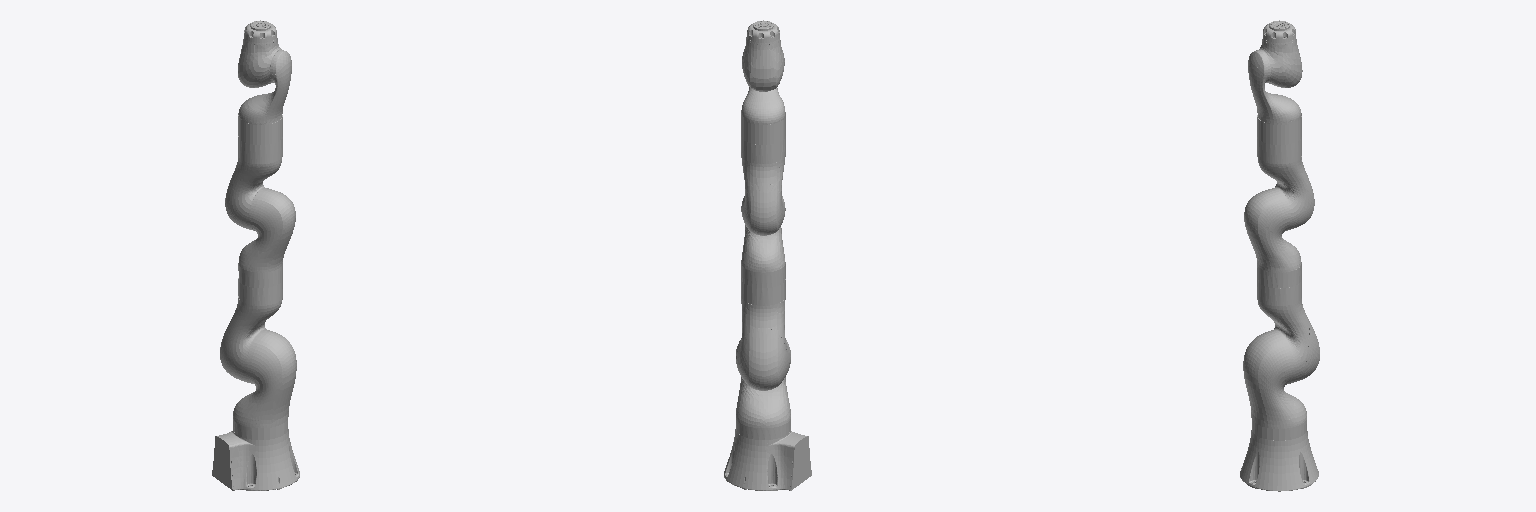
URDF robot description (orochi):
<?xml version="1.0" encoding="utf-8"?>
<!-- This URDF was automatically created by SolidWorks to URDF Exporter! Originally created by [author] ([email redacted]) 
     Commit Version: 1.4.2-27-gc3b3358  Build Version: 1.4.6891.25992
     For more information, please see http://wiki.ros.org/sw_urdf_exporter -->
<robot
  name="orochi">
  <link
    name="base_link">
    <inertial>
      <origin
        xyz="-0.012822 1.4447E-06 0.069507"
        rpy="0 0 0" />
      <mass
        value="5.4764" />
      <inertia
        ixx="0.024256"
        ixy="8.7181E-08"
        ixz="0.00067664"
        iyy="0.030835"
        iyz="-1.7098E-07"
        izz="0.03348" />
    </inertial>
    <visual>
      <origin
        xyz="0 0 0"
        rpy="0 0 0" />
      <geometry>
        <mesh
          filename="package://orochi/meshes/base_link.STL" />
      </geometry>
      <material
        name="">
        <color
          rgba="0.75294 0.75294 0.75294 1" />
      </material>
    </visual>
    <collision>
      <origin
        xyz="0 0 0"
        rpy="0 0 0" />
      <geometry>
        <mesh
          filename="package://orochi/meshes/base_link.STL" />
      </geometry>
    </collision>
  </link>
  <link
    name="Empty_Link1">
    <inertial>
      <origin
        xyz="0.013991 -0.023809 0.13621"
        rpy="0 0 0" />
      <mass
        value="5.027" />
      <inertia
        ixx="0.050907"
        ixy="0.00024736"
        ixz="-0.0043361"
        iyy="0.050634"
        iyz="0.0073776"
        izz="0.016541" />
    </inertial>
    <visual>
      <origin
        xyz="0 0 0"
        rpy="0 0 0" />
      <geometry>
        <mesh
          filename="package://orochi/meshes/Empty_Link1.STL" />
      </geometry>
      <material
        name="">
        <color
          rgba="0.75294 0.75294 0.75294 1" />
      </material>
    </visual>
    <collision>
      <origin
        xyz="0 0 0"
        rpy="0 0 0" />
      <geometry>
        <mesh
          filename="package://orochi/meshes/Empty_Link1.STL" />
      </geometry>
    </collision>
  </link>
  <joint
    name="join1"
    type="continuous">
    <origin
      xyz="0 0 0.1555"
      rpy="0 0 0" />
    <parent
      link="base_link" />
    <child
      link="Empty_Link1" />
    <axis
      xyz="0 0 -1" />
    <limit
      lower="-180"
      upper="180"
      effort="100"
      velocity="1" />
    <safety_controller
      k_velocity="0" />
  </joint>
  <link
    name="Empty_Link2">
    <inertial>
      <origin
        xyz="-0.090405 0.0001283 -0.034379"
        rpy="0 0 0" />
      <mass
        value="4.8258" />
      <inertia
        ixx="0.014308"
        ixy="-5.2212E-05"
        ixz="0.010129"
        iyy="0.054914"
        iyz="2.7585E-05"
        izz="0.053476" />
    </inertial>
    <visual>
      <origin
        xyz="0 0 0"
        rpy="0 0 0" />
      <geometry>
        <mesh
          filename="package://orochi/meshes/Empty_Link2.STL" />
      </geometry>
      <material
        name="">
        <color
          rgba="0.75294 0.75294 0.75294 1" />
      </material>
    </visual>
    <collision>
      <origin
        xyz="0 0 0"
        rpy="0 0 0" />
      <geometry>
        <mesh
          filename="package://orochi/meshes/Empty_Link2.STL" />
      </geometry>
    </collision>
  </link>
  <joint
    name="joint2"
    type="fixed">
    <origin
      xyz="0 0 0.2425"
      rpy="1.0396 1.5708 0" />
    <parent
      link="Empty_Link1" />
    <child
      link="Empty_Link2" />
    <axis
      xyz="0 0 0" />
    <limit
      lower="-180"
      upper="180"
      effort="100"
      velocity="1" />
    <safety_controller
      k_velocity="0" />
  </joint>
  <link
    name="Empty_Link3">
    <inertial>
      <origin
        xyz="0.013716 -0.023352 0.13494"
        rpy="0 0 0" />
      <mass
        value="3.4657" />
      <inertia
        ixx="0.030336"
        ixy="0.00065705"
        ixz="-0.0030182"
        iyy="0.029603"
        iyz="0.0051381"
        izz="0.0085136" />
    </inertial>
    <visual>
      <origin
        xyz="0 0 0"
        rpy="0 0 0" />
      <geometry>
        <mesh
          filename="package://orochi/meshes/Empty_Link3.STL" />
      </geometry>
      <material
        name="">
        <color
          rgba="0.75294 0.75294 0.75294 1" />
      </material>
    </visual>
    <collision>
      <origin
        xyz="0 0 0"
        rpy="0 0 0" />
      <geometry>
        <mesh
          filename="package://orochi/meshes/Empty_Link3.STL" />
      </geometry>
    </collision>
  </link>
  <joint
    name="joint3"
    type="fixed">
    <origin
      xyz="-0.2645 0 0"
      rpy="-1.5708 -0.53116 1.5708" />
    <parent
      link="Empty_Link2" />
    <child
      link="Empty_Link3" />
    <axis
      xyz="0 0 0" />
    <limit
      lower="-180"
      upper="180"
      effort="100"
      velocity="1" />
    <safety_controller
      k_velocity="0" />
  </joint>
  <link
    name="Empty_Link4">
    <inertial>
      <origin
        xyz="-0.10563 -9.1486E-07 -0.025932"
        rpy="0 0 0" />
      <mass
        value="3.6905" />
      <inertia
        ixx="0.0091824"
        ixy="-2.3028E-08"
        ixz="0.0064332"
        iyy="0.034999"
        iyz="-9.1232E-08"
        izz="0.033362" />
    </inertial>
    <visual>
      <origin
        xyz="0 0 0"
        rpy="0 0 0" />
      <geometry>
        <mesh
          filename="package://orochi/meshes/Empty_Link4.STL" />
      </geometry>
      <material
        name="">
        <color
          rgba="0.75294 0.75294 0.75294 1" />
      </material>
    </visual>
    <collision>
      <origin
        xyz="0 0 0"
        rpy="0 0 0" />
      <geometry>
        <mesh
          filename="package://orochi/meshes/Empty_Link4.STL" />
      </geometry>
    </collision>
  </link>
  <joint
    name="joint4"
    type="fixed">
    <origin
      xyz="0.00025327 -0.00043111 0.2355"
      rpy="1.0396 1.5708 0" />
    <parent
      link="Empty_Link3" />
    <child
      link="Empty_Link4" />
    <axis
      xyz="0 0 0" />
    <limit
      lower="-180"
      upper="180"
      effort="100"
      velocity="1" />
    <safety_controller
      k_velocity="0" />
  </joint>
  <link
    name="Empty_Link5">
    <inertial>
      <origin
        xyz="0.0083708 -0.01416 0.088691"
        rpy="0 0 0" />
      <mass
        value="2.2021" />
      <inertia
        ixx="0.0078973"
        ixy="0.00046195"
        ixz="-0.001112"
        iyy="0.0073904"
        iyz="0.0018813"
        izz="0.0053213" />
    </inertial>
    <visual>
      <origin
        xyz="0 0 0"
        rpy="0 0 0" />
      <geometry>
        <mesh
          filename="package://orochi/meshes/Empty_Link5.STL" />
      </geometry>
      <material
        name="">
        <color
          rgba="0.75294 0.75294 0.75294 1" />
      </material>
    </visual>
    <collision>
      <origin
        xyz="0 0 0"
        rpy="0 0 0" />
      <geometry>
        <mesh
          filename="package://orochi/meshes/Empty_Link5.STL" />
      </geometry>
    </collision>
  </link>
  <joint
    name="joint5"
    type="fixed">
    <origin
      xyz="-0.2495 0 -0.0005"
      rpy="-1.5708 -0.53116 1.5708" />
    <parent
      link="Empty_Link4" />
    <child
      link="Empty_Link5" />
    <axis
      xyz="0 0 0" />
    <limit
      lower="-180"
      upper="180"
      effort="100"
      velocity="1" />
    <safety_controller
      k_velocity="0" />
  </joint>
  <link
    name="Empty_Link6">
    <inertial>
      <origin
        xyz="-0.00058323 3.3834E-05 -0.061101"
        rpy="0 0 0" />
      <mass
        value="1.8079" />
      <inertia
        ixx="0.0035005"
        ixy="1.6024E-05"
        ixz="0.00022729"
        iyy="0.004845"
        iyz="-2.6538E-05"
        izz="0.0046501" />
    </inertial>
    <visual>
      <origin
        xyz="0 0 0"
        rpy="0 0 0" />
      <geometry>
        <mesh
          filename="package://orochi/meshes/Empty_Link6.STL" />
      </geometry>
      <material
        name="">
        <color
          rgba="0.75294 0.75294 0.75294 1" />
      </material>
    </visual>
    <collision>
      <origin
        xyz="0 0 0"
        rpy="0 0 0" />
      <geometry>
        <mesh
          filename="package://orochi/meshes/Empty_Link6.STL" />
      </geometry>
    </collision>
  </link>
  <joint
    name="joint6"
    type="fixed">
    <origin
      xyz="0.030966 -0.052208 0.2505"
      rpy="1.0396 1.5708 0" />
    <parent
      link="Empty_Link5" />
    <child
      link="Empty_Link6" />
    <axis
      xyz="0 0 0" />
    <limit
      lower="-180"
      upper="180"
      effort="100"
      velocity="1" />
    <safety_controller
      k_velocity="0" />
  </joint>
  <link
    name="Empty_Link7">
    <inertial>
      <origin
        xyz="6.2194E-07 8.1316E-08 -0.027493"
        rpy="0 0 0" />
      <mass
        value="2.4716" />
      <inertia
        ixx="0.0015183"
        ixy="-2.2254E-07"
        ixz="-6.7766E-08"
        iyy="0.0015182"
        iyz="3.9105E-08"
        izz="0.0027275" />
    </inertial>
    <visual>
      <origin
        xyz="0 0 0"
        rpy="0 0 0" />
      <geometry>
        <mesh
          filename="package://orochi/meshes/Empty_Link7.STL" />
      </geometry>
      <material
        name="">
        <color
          rgba="0.75294 0.75294 0.75294 1" />
      </material>
    </visual>
    <collision>
      <origin
        xyz="0 0 0"
        rpy="0 0 0" />
      <geometry>
        <mesh
          filename="package://orochi/meshes/Empty_Link7.STL" />
      </geometry>
    </collision>
  </link>
  <joint
    name="joint7"
    type="continuous">
    <origin
      xyz="-0.1259 0 -0.0607"
      rpy="-1.5708 -0.53116 1.5708" />
    <parent
      link="Empty_Link6" />
    <child
      link="Empty_Link7" />
    <axis
      xyz="0 0 1" />
    <limit
      lower="-180"
      upper="180"
      effort="100"
      velocity="1" />
    <safety_controller
      k_velocity="0" />
  </joint>
</robot>

--- What the picture shows (computed from the rendered views, not written in the file) ---
The picture shows the robot from 3 angles, left to right: view 1: azimuth 30°, elevation 25°; view 2: azimuth 150°, elevation 25°; view 3: azimuth 270°, elevation 25°; orthographic projection.
Robot: orochi — 8 links, 7 joints (2 continuous, 5 fixed); root link base_link; default pose: every joint at zero.
Visible links, largest first — view 1: Empty_Link1, base_link, Empty_Link3, Empty_Link2, Empty_Link5, Empty_Link4, Empty_Link6, Empty_Link7; view 2: Empty_Link2, base_link, Empty_Link4, Empty_Link1, Empty_Link3, Empty_Link5, Empty_Link6, Empty_Link7; view 3: Empty_Link1, Empty_Link3, base_link, Empty_Link2, Empty_Link5, Empty_Link4, Empty_Link6, Empty_Link7.
Link boxes in pixels (box(x1,y1,x2,y2)): Empty_Link1: box(233, 330, 296, 439); base_link: box(212, 429, 299, 490); Empty_Link3: box(238, 188, 295, 287); Empty_Link2: box(220, 278, 282, 383); Empty_Link5: box(238, 50, 291, 144); Empty_Link4: box(225, 136, 282, 230); Empty_Link6: box(238, 38, 281, 87); Empty_Link7: box(244, 20, 276, 44); Empty_Link2: box(736, 279, 790, 390); base_link: box(724, 429, 811, 490); Empty_Link4: box(741, 136, 785, 235); Empty_Link1: box(736, 338, 790, 439); Empty_Link3: box(741, 196, 785, 287); Empty_Link5: box(741, 87, 785, 144); Empty_Link6: box(742, 38, 784, 91); Empty_Link7: box(746, 20, 779, 44); Empty_Link1: box(1243, 330, 1306, 440); Empty_Link3: box(1244, 188, 1301, 288); base_link: box(1240, 430, 1318, 491); Empty_Link2: box(1257, 280, 1319, 384); Empty_Link5: box(1248, 50, 1301, 144); Empty_Link4: box(1257, 137, 1314, 230); Empty_Link6: box(1259, 39, 1302, 87); Empty_Link7: box(1263, 20, 1295, 44).
Size in the robot's own frame: 0.2575 by 0.2462 by 1.53 metres.
Meshes: 8 distinct files referenced, 8 mesh visuals loaded (8 binary STL).